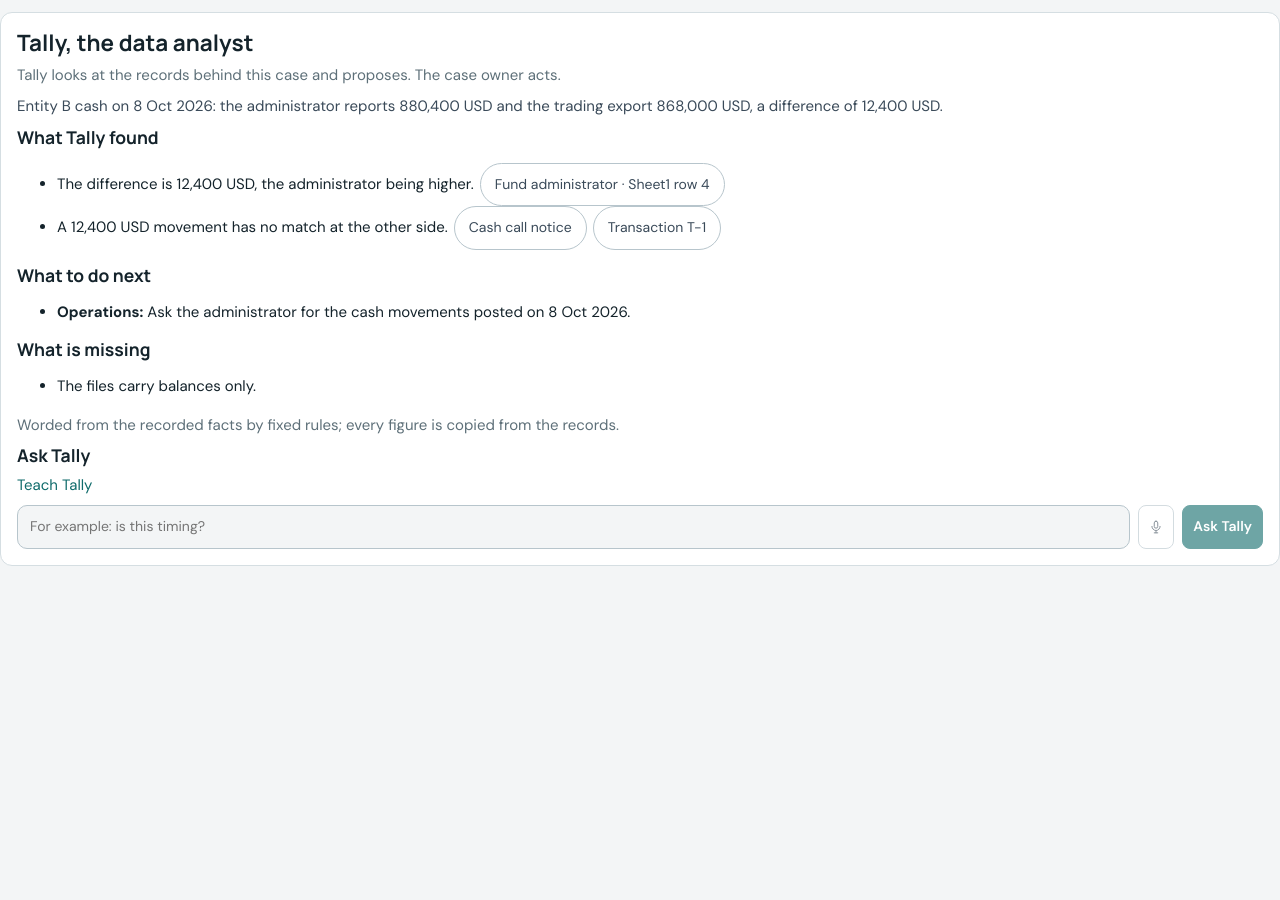
the business owner sees Teach Tally beside Ask Tally, and the answer says which passage was used
This screenshot has width=1280, height=900.
Type "when is rebalancing?" into the field named "Ask Tally a question about this case".
click(574, 527); type("when is rebalancing?")  # box [17,505,1130,549]
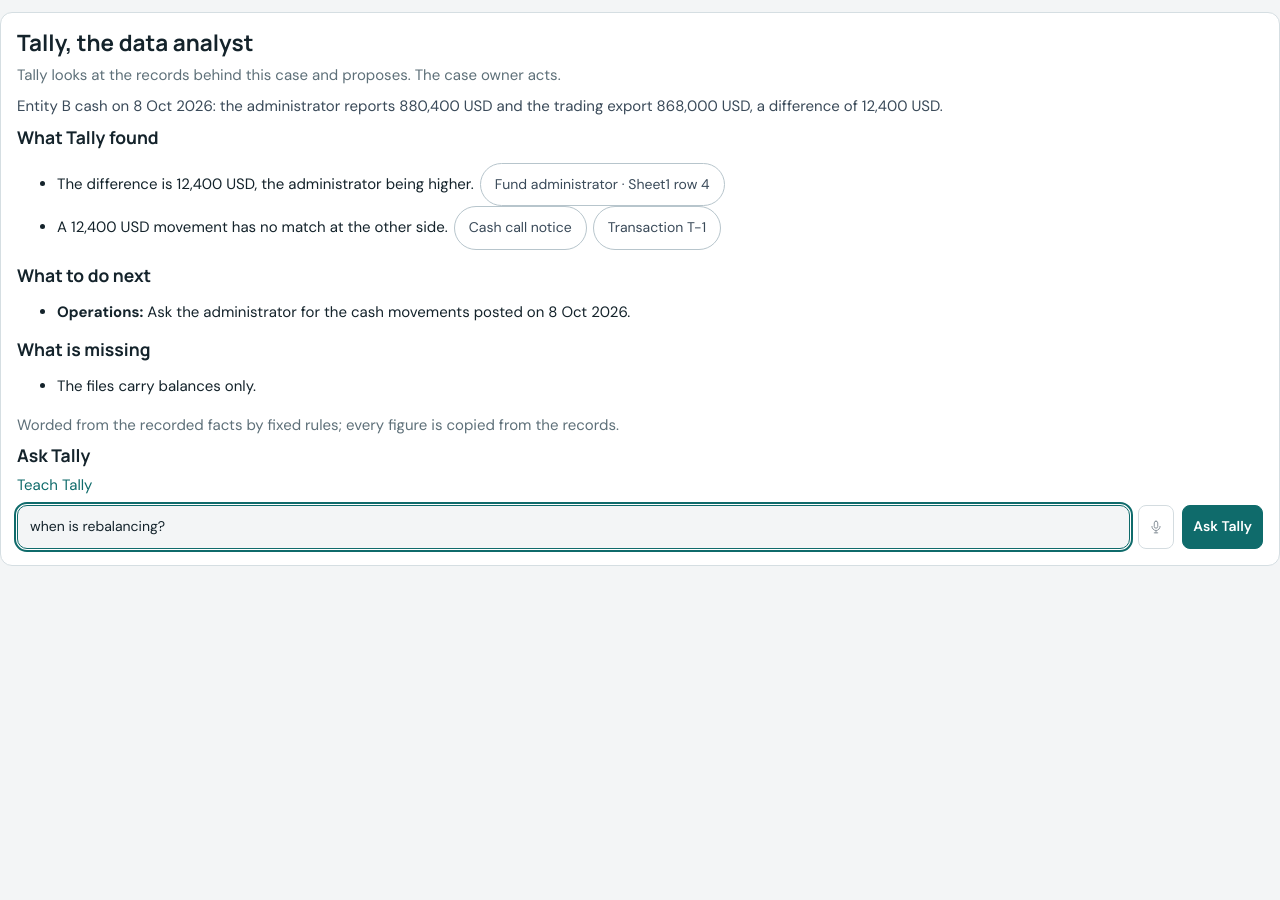
Click the button "Ask Tally".
click(1223, 527)  # box [1182,505,1263,549]
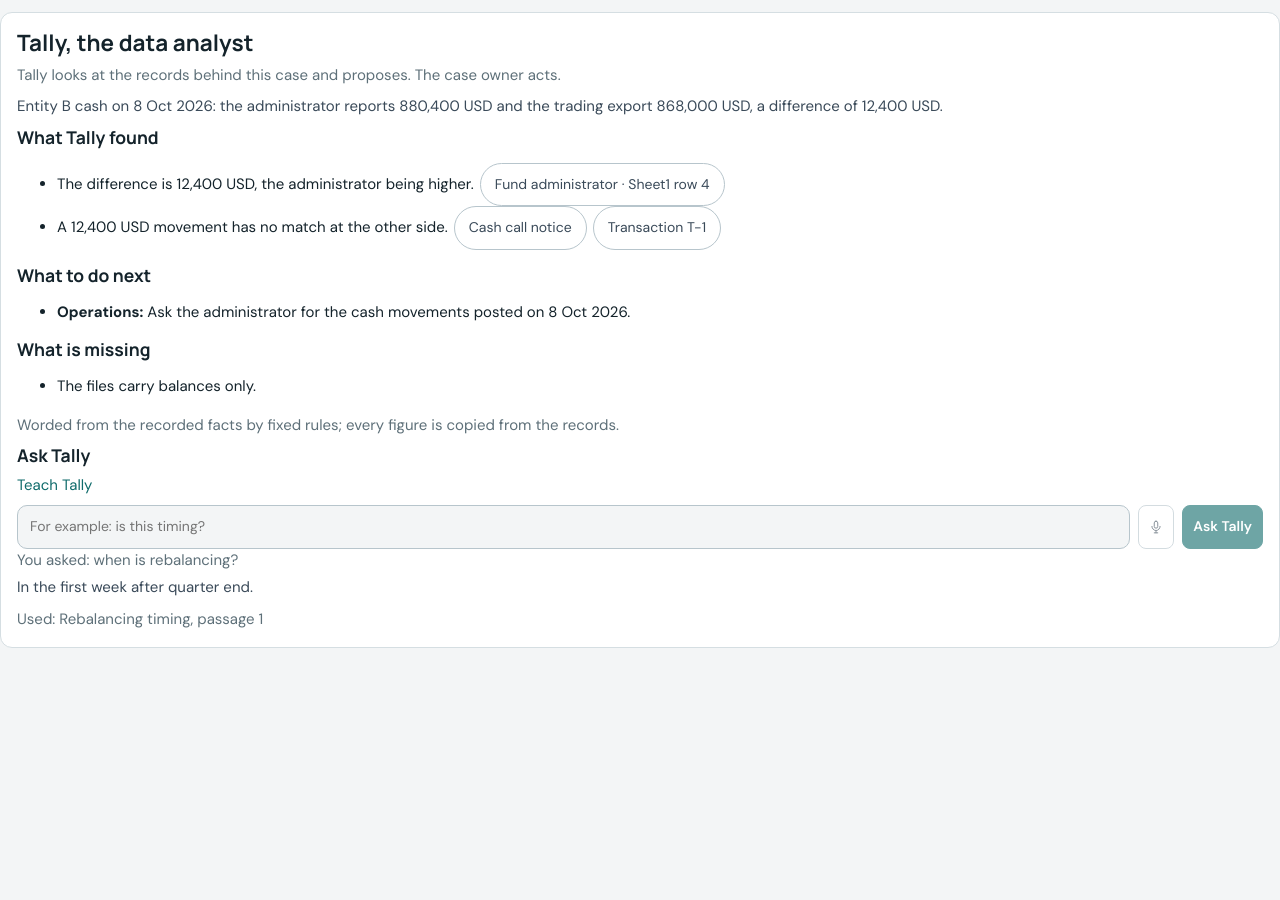
Expected: the text named "Taught knowledge used" reads "Used: Rebalancing timing, passage 1", [17,609,263,629]
